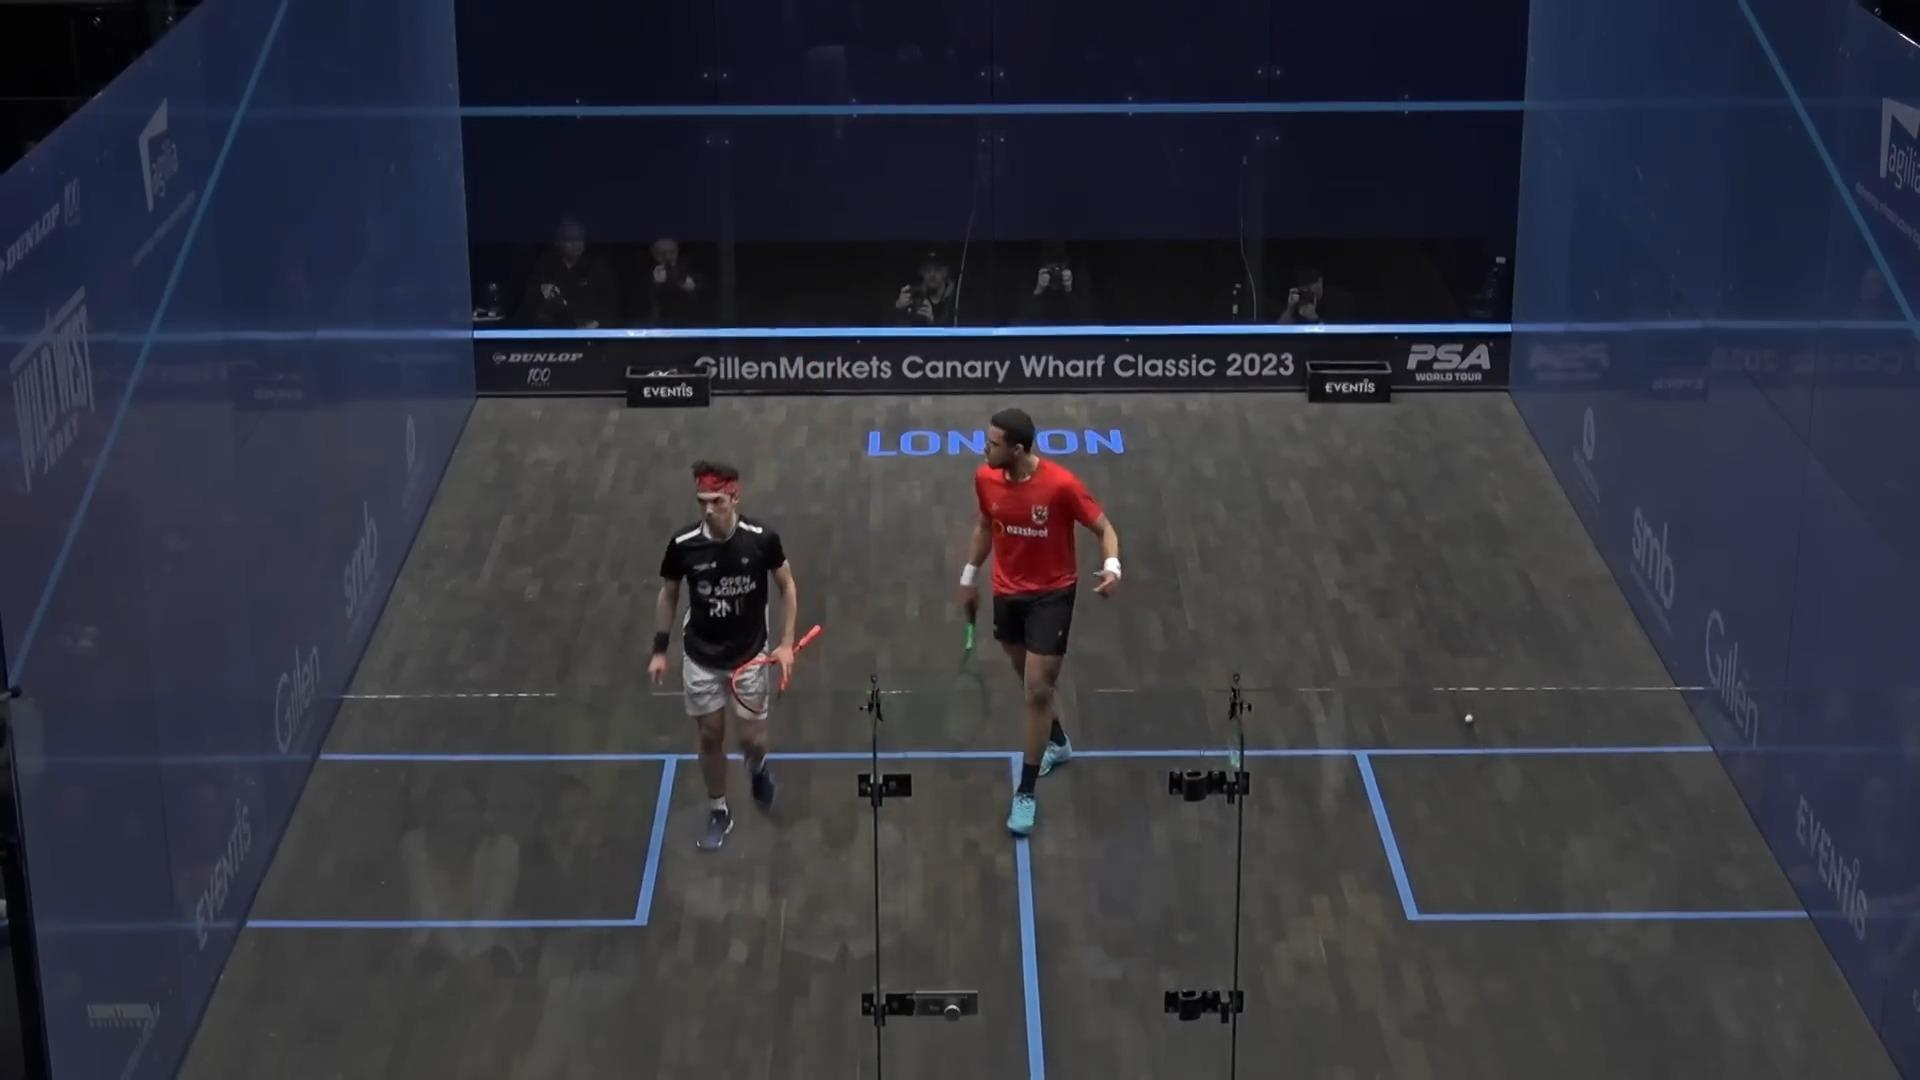Racket: (729, 621, 829, 716)
